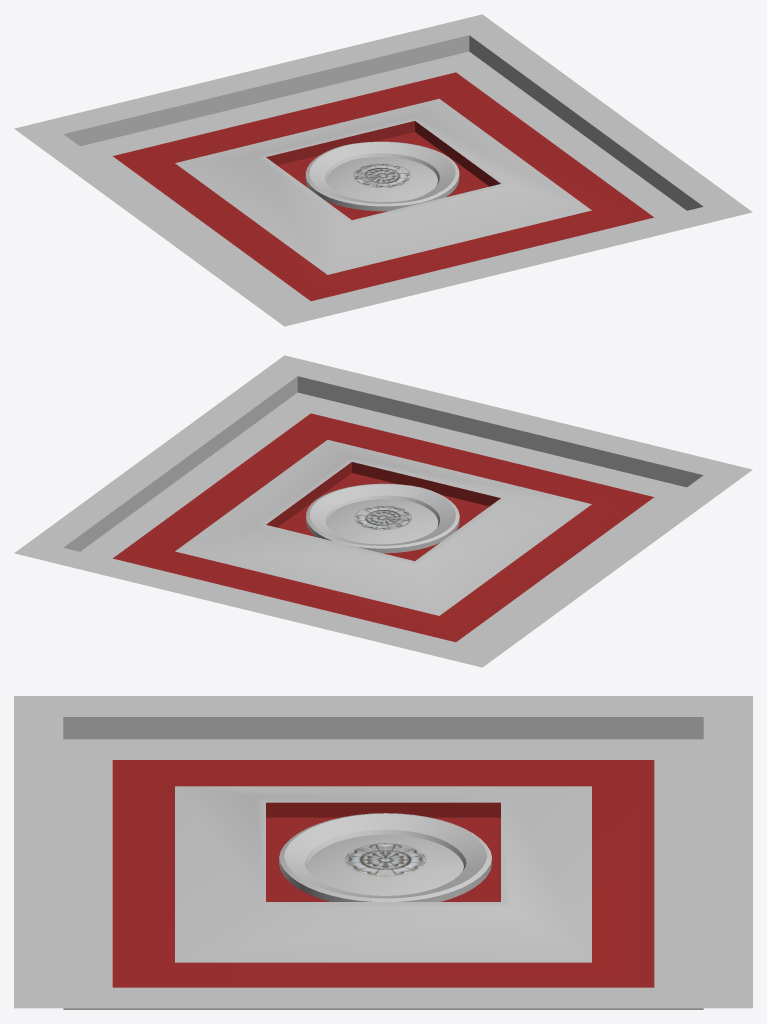
The model's file is Ceiling_1.FBX.
The picture shows the model from 3 angles, top to bottom: view 1: azimuth 30°, elevation 25°; view 2: azimuth 150°, elevation 25°; view 3: azimuth 270°, elevation 25°; orthographic projection. The views are drawn at different scales.
Visible parts, largest first — view 1: Ceiling_1; view 2: Ceiling_1; view 3: Ceiling_1.
Boxes of the visible parts, box(x1,y1,x2,y2) form: Ceiling_1: box(14, 14, 752, 326); Ceiling_1: box(14, 355, 752, 667); Ceiling_1: box(14, 696, 752, 1009).
Size of the model in its own units: 12 by 0.4 by 12.
